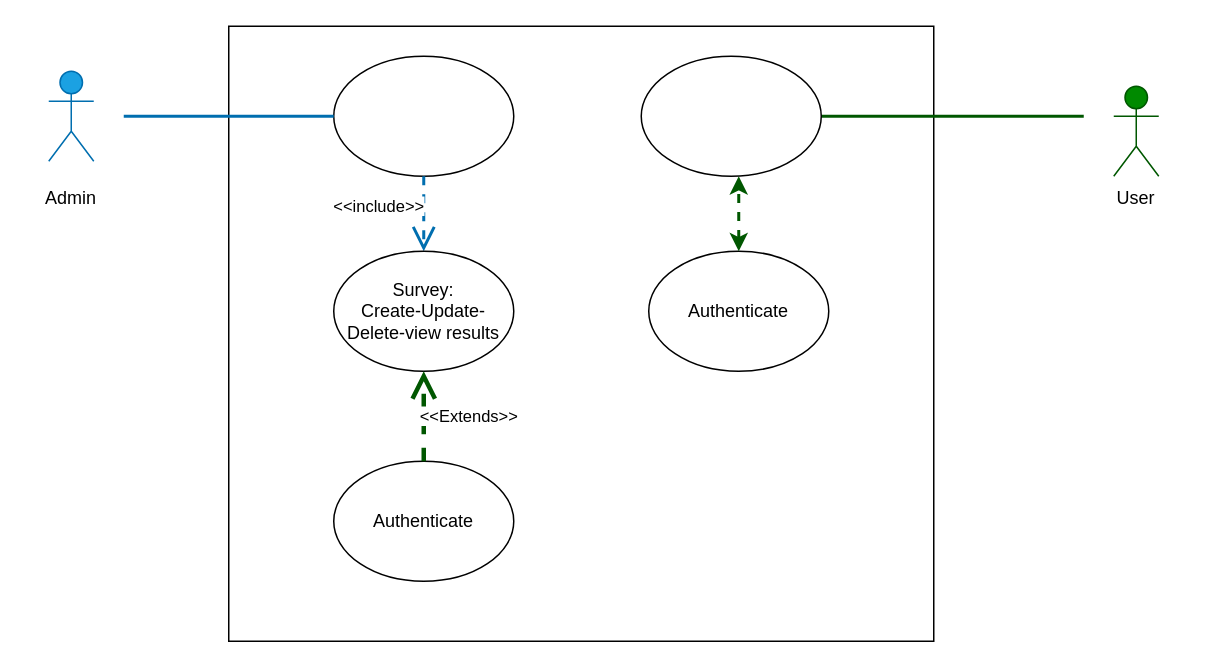
This 1206x668 diagram has some shape labels left out. The centre of each missing label's shape, as x and y in pixels:
Manage Users Manage Surveys: the point at 423,115
Take Survey View Survey Results: the point at 730,115
